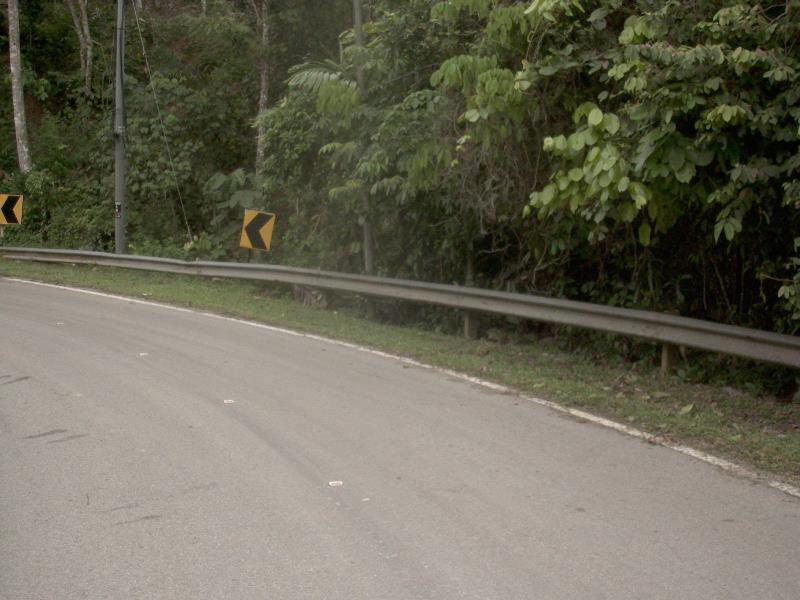traffic_sign: (234, 201, 282, 258)
